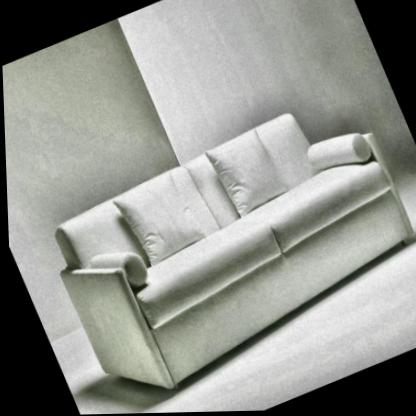Sofa: (27, 85, 416, 414)
